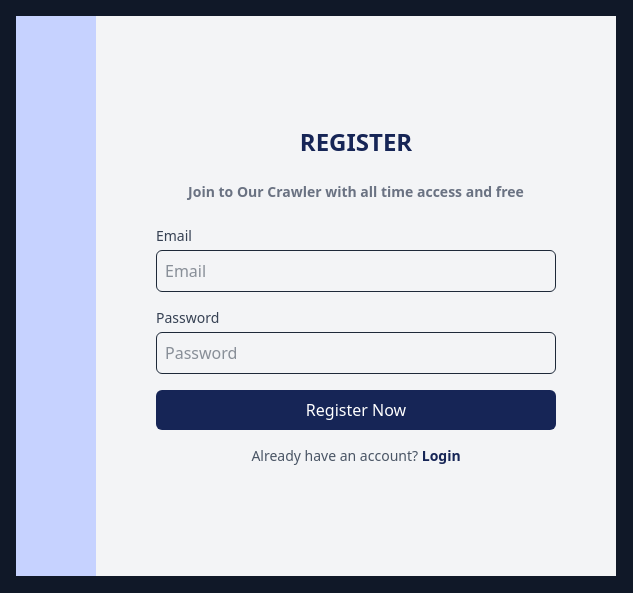
Test: registers a new user successfully
The image size is (633, 593).
Type "newuser@example.com" into the field with placeholder "Email". click: (356, 271)
box: top-left (156, 250), bottom-right (556, 292)
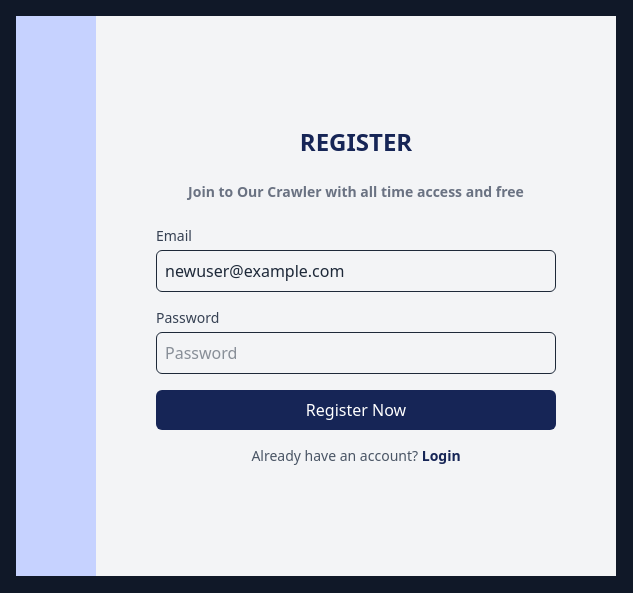
Type "strongpass123" into the password field with placeholder "Password". click: (356, 353)
box: top-left (156, 332), bottom-right (556, 374)
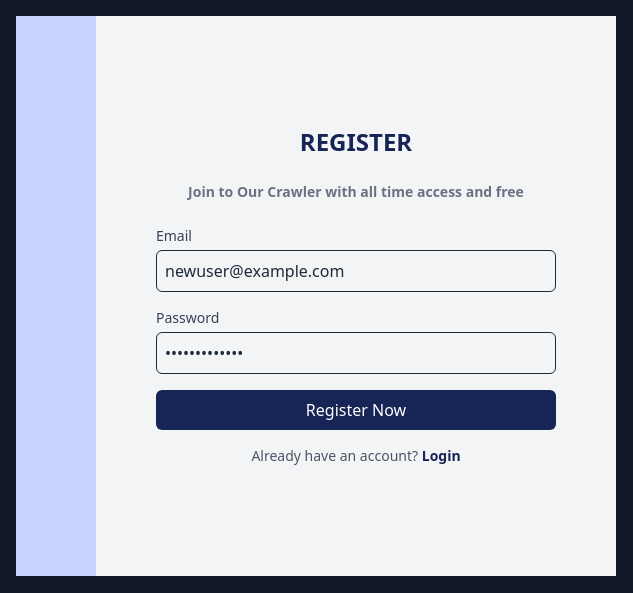
Click the button "Register Now". click: (356, 410)
box: top-left (156, 390), bottom-right (556, 430)
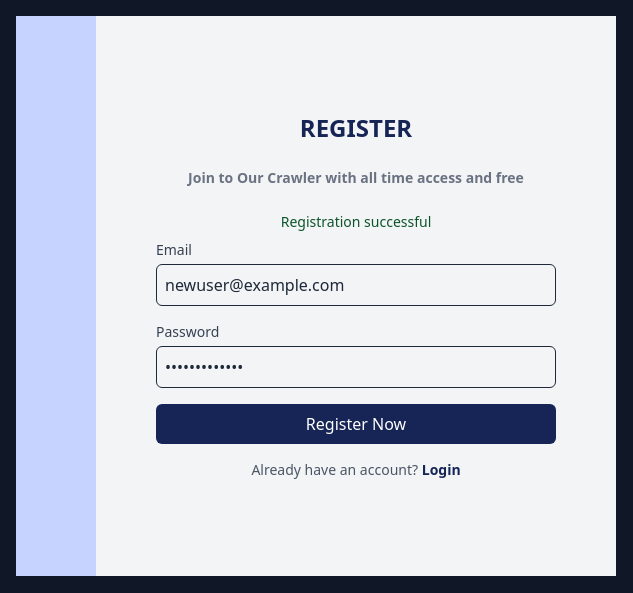
Expected: the text "Registration successful" is shown, top-left (281, 212), bottom-right (431, 231)
